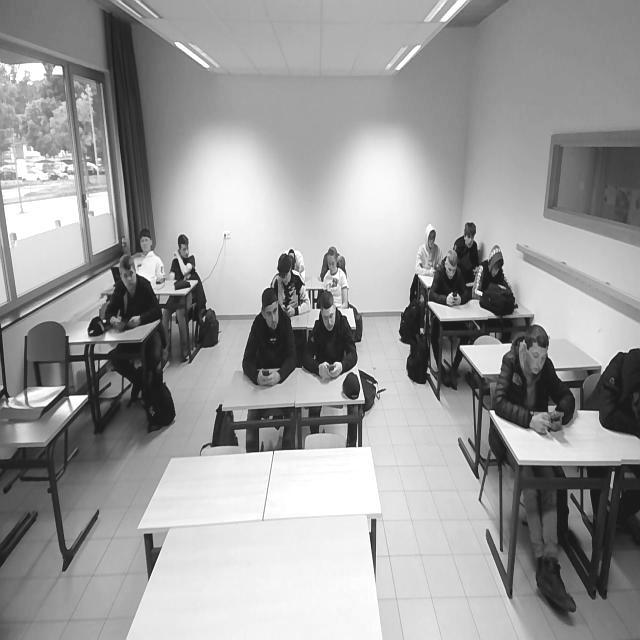Looking away: (480, 245, 506, 283), (271, 251, 298, 286), (171, 231, 199, 262), (321, 249, 342, 279), (461, 219, 477, 249)
Looking forward: (114, 257, 144, 294), (136, 227, 158, 262)
Phone use: (494, 323, 568, 431), (240, 289, 296, 392), (306, 294, 356, 379), (426, 253, 469, 304), (411, 224, 448, 276)
